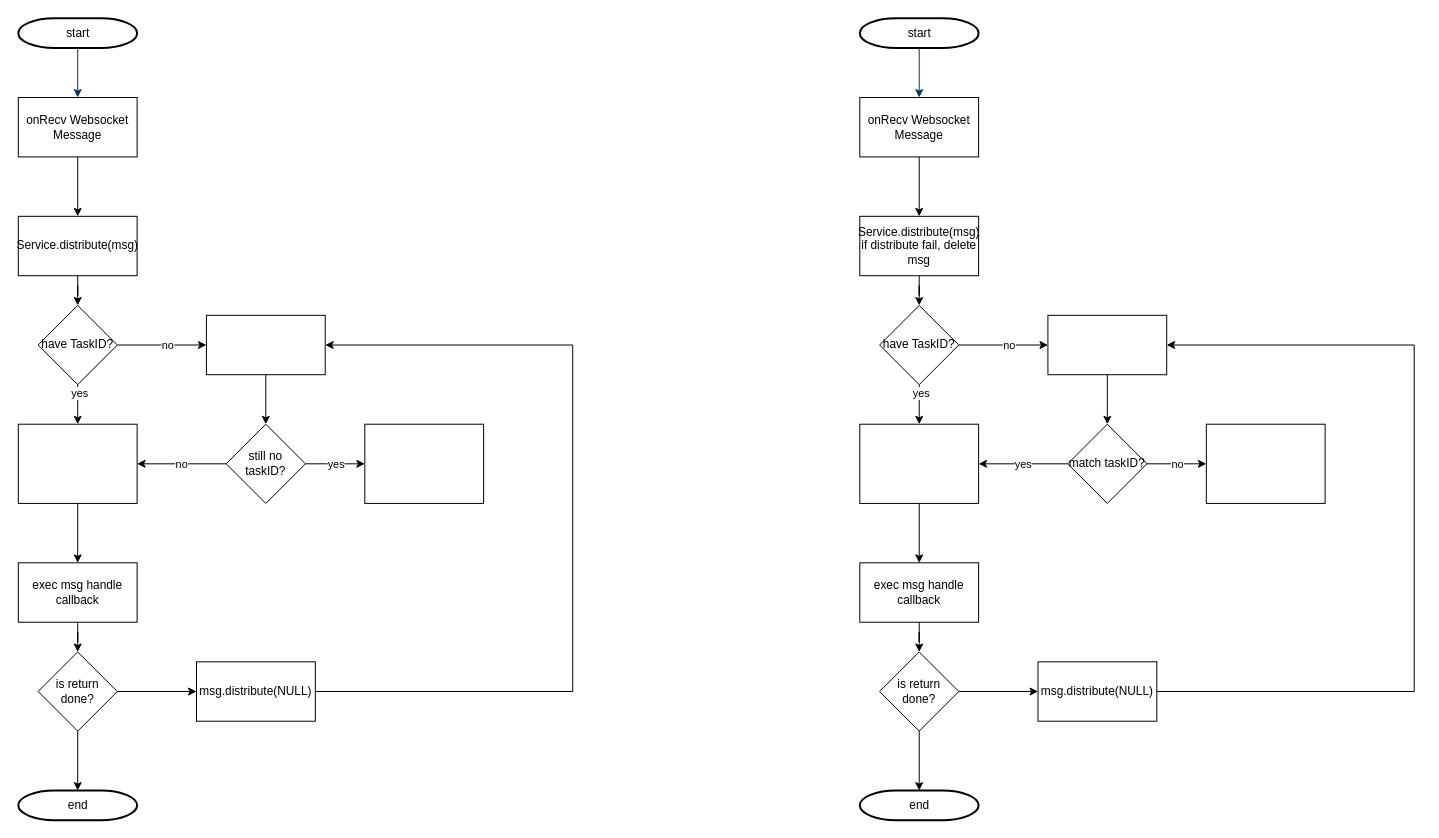
Image size: 1439x838. Some labels were removed from this diagram. The shapes that lost their labels are listed below. From the top down, each one's box as (x1, y1, x2, y2) in pixels, then its label:
(205, 314, 325, 375): getTaskID by rule match also set index for msg
(1047, 314, 1167, 375): msg.distribute(root)
(17, 423, 137, 503): pushTaskMsg by taskID
(364, 423, 484, 503): do nothing?
(859, 423, 979, 503): return pushTaskMsg()
(1205, 423, 1325, 503): return false
